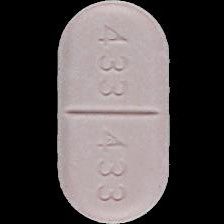43353-659: (0, 0, 224, 224)
